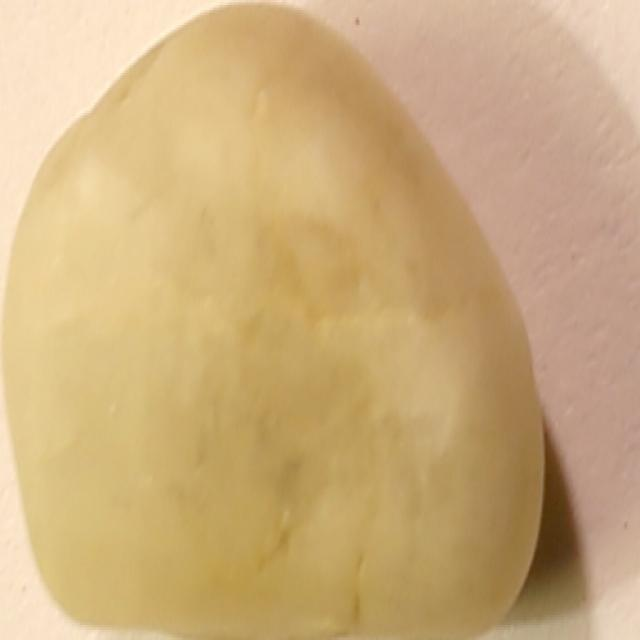stone: (0, 3, 546, 640)
